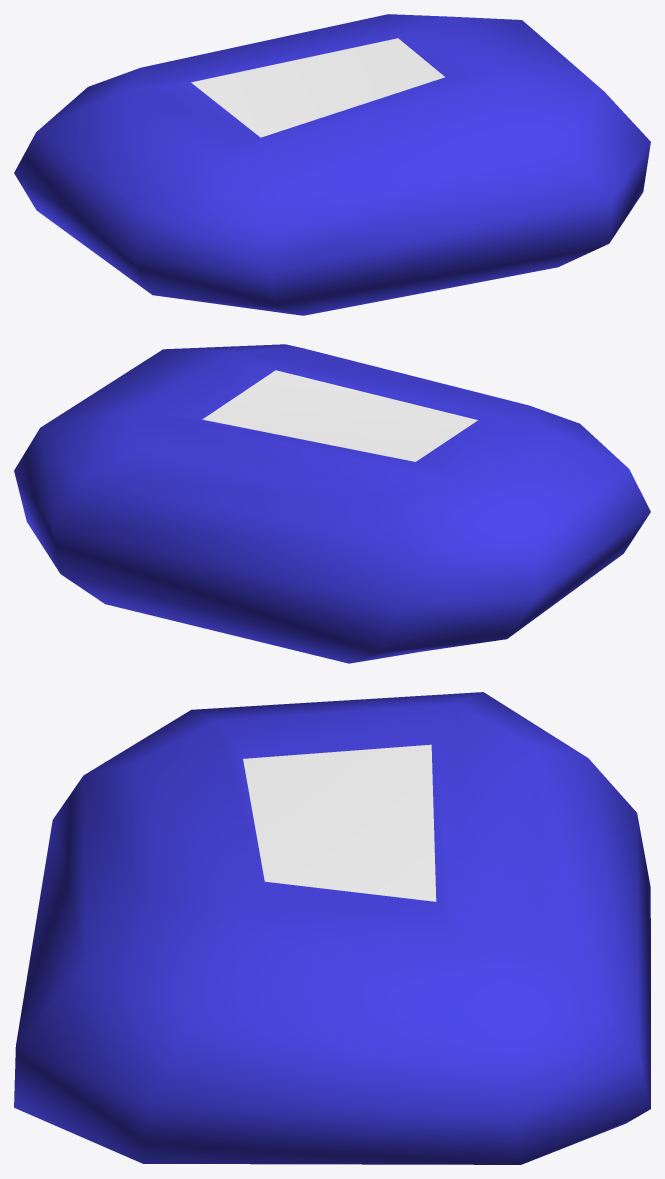
File: Props_Package_07.fbx
3 views of the same model, one above another, from view 1: azimuth 30°, elevation 25°; view 2: azimuth 150°, elevation 25°; view 3: azimuth 270°, elevation 25° (orthographic). The views are drawn at different scales.
Visible parts, largest first — view 1: Props_Package_07; view 2: Props_Package_07; view 3: Props_Package_07.
Part boxes in pixels (x1=…): Props_Package_07: x1=14, y1=14, x2=650, y2=315; Props_Package_07: x1=14, y1=344, x2=650, y2=663; Props_Package_07: x1=14, y1=692, x2=650, y2=1164.
Bounding box in the file's own units: 63.85 × 18.36 × 47.65.
